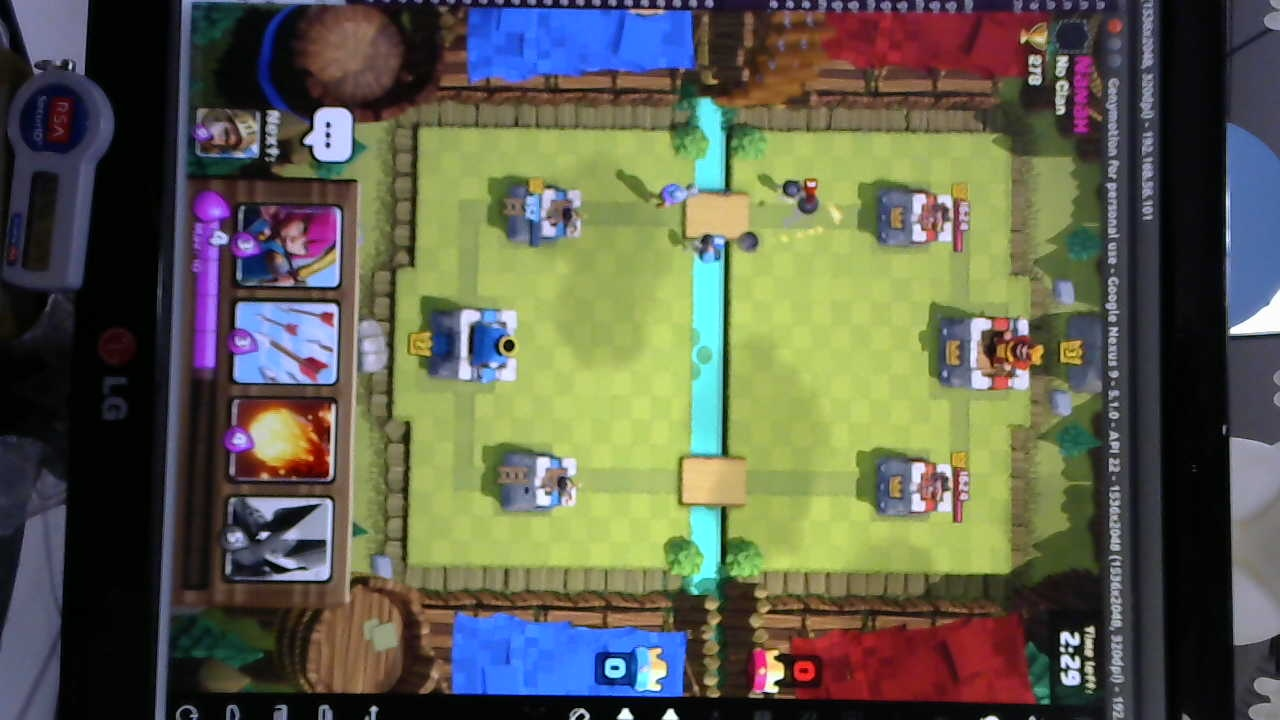arena: (499, 173, 587, 246), (497, 446, 583, 518)
bomb: (770, 175, 819, 213), (690, 233, 727, 267)
earena: (871, 452, 955, 519), (873, 187, 953, 253)
eking: (933, 307, 1040, 394)
king: (427, 309, 514, 382)
musketeer: (641, 176, 694, 216)
